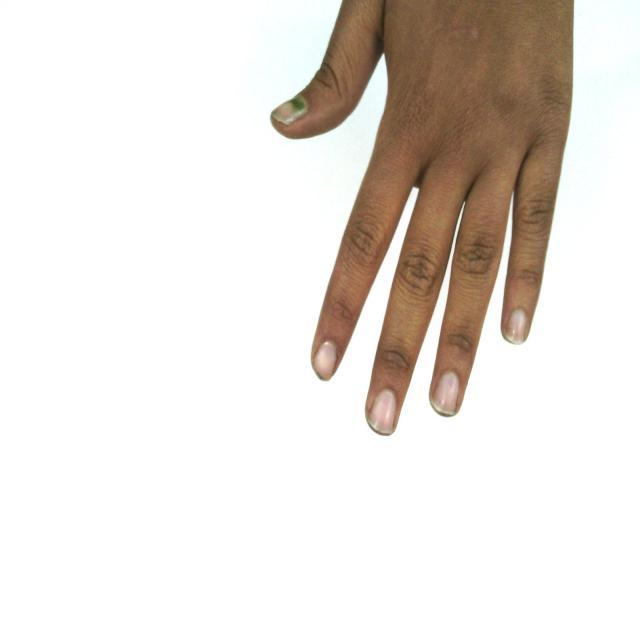Fingernail: (369, 390, 397, 434), (432, 372, 459, 415), (272, 97, 306, 125), (314, 342, 337, 379), (505, 310, 528, 344)
